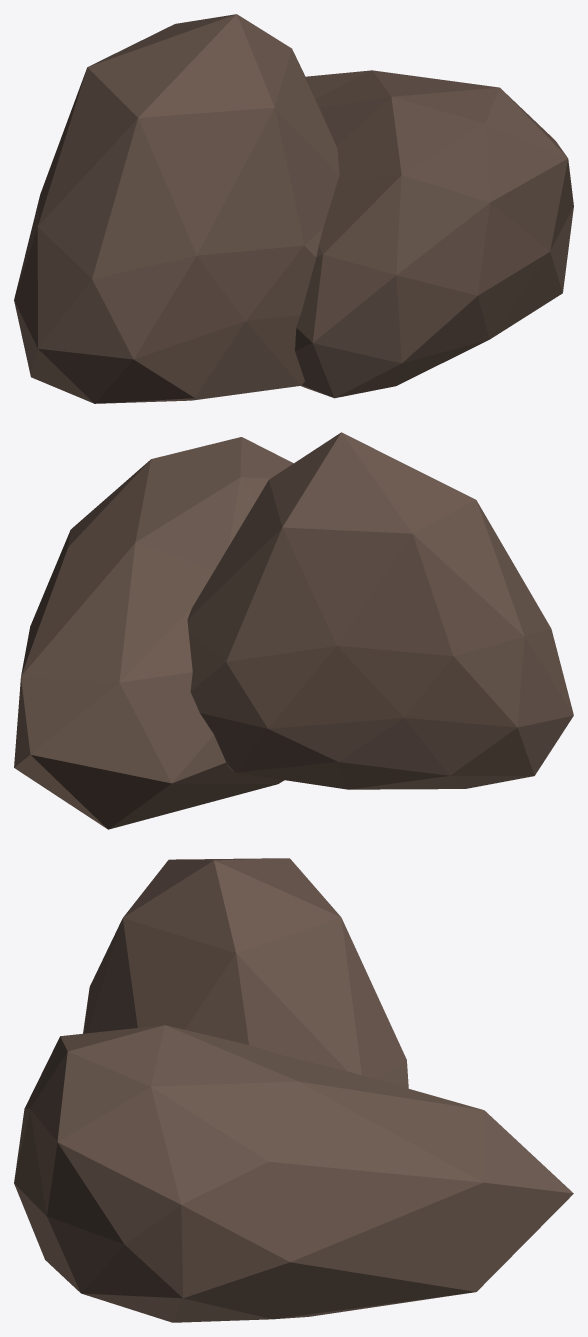
The model's file is stones2.glb.
The picture shows the model from 3 angles, top to bottom: view 1: azimuth 30°, elevation 25°; view 2: azimuth 150°, elevation 25°; view 3: azimuth 270°, elevation 25°; orthographic projection. The views are drawn at different scales.
Parts seen in each view (by area): view 1: Stones2Mesh; view 2: Stones2Mesh; view 3: Stones2Mesh.
Boxes of the visible parts, <box> form: Stones2Mesh: <box>14,14,573,403</box>; Stones2Mesh: <box>14,432,573,829</box>; Stones2Mesh: <box>14,858,573,1322</box>.
Size of the model in its own units: 9.53 by 6.35 by 8.52.
